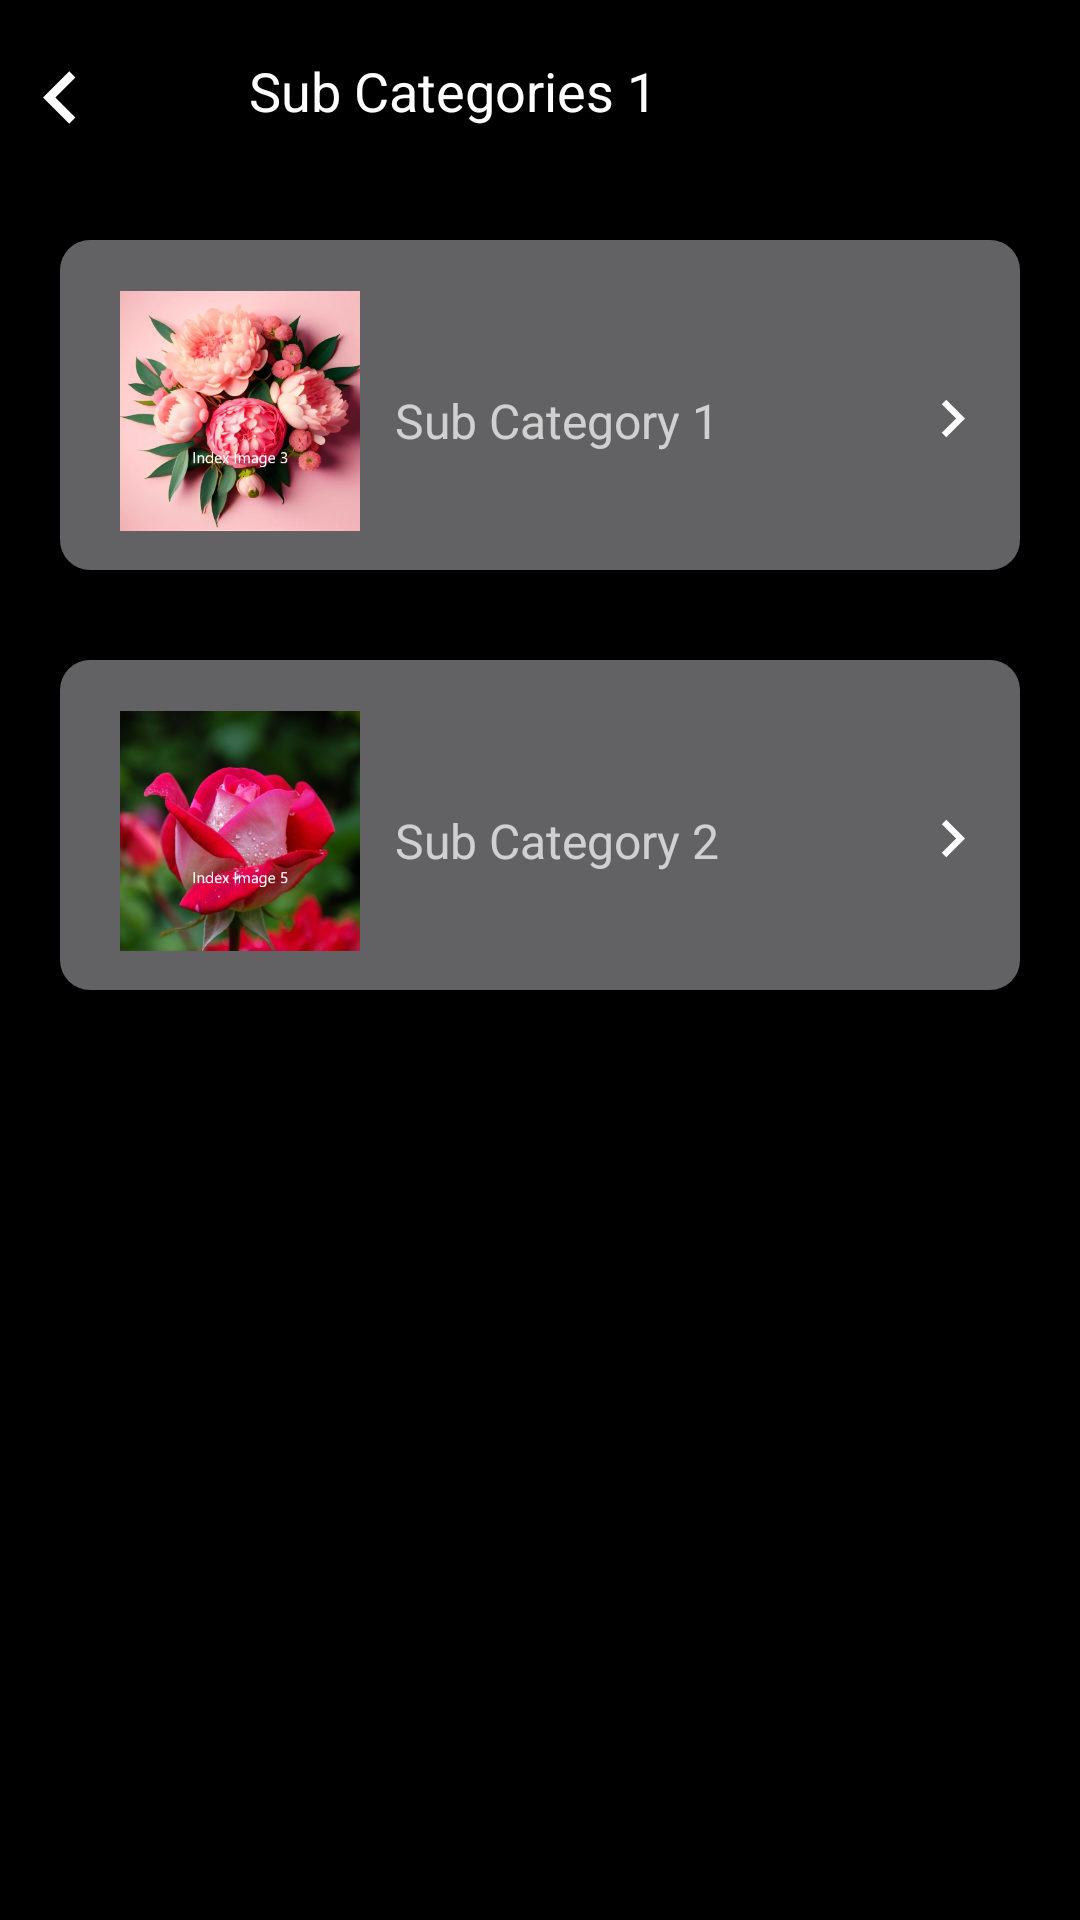

Named icons in this screenshot (1080x1920) and their centers, (x=x, y=y):
keyboard arrow left: (x=59, y=97)
keyboard arrow right: (x=953, y=418), (x=953, y=838)
